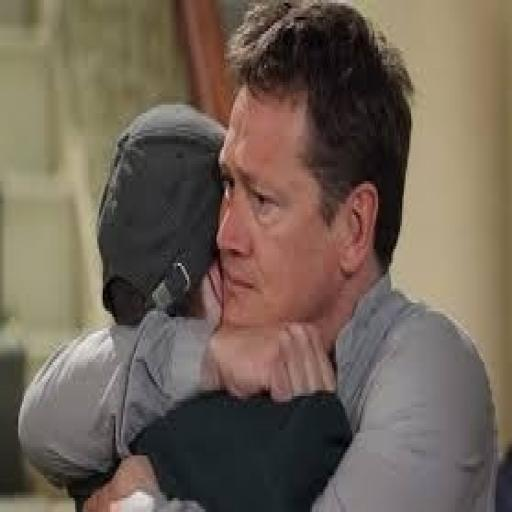hugging: (17, 0, 501, 509)
